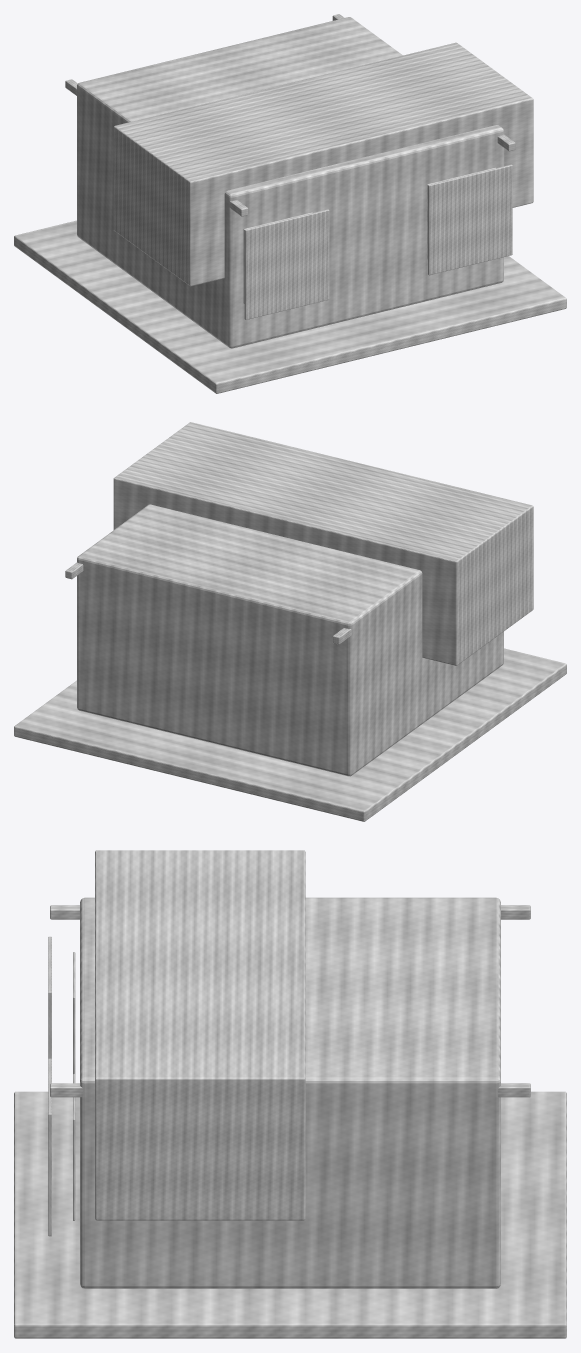
File: truck-station_variant_b.glb
3 renders of one model, top to bottom at view 1: azimuth 30°, elevation 25°; view 2: azimuth 150°, elevation 25°; view 3: azimuth 270°, elevation 25°, orthographic. The views are drawn at different scales.
Parts seen in each view (by area): view 1: Main structural housing.001, Vehicle bay.001, Foundation.001, Protective frame.002, Protective frame.003; view 2: Main structural housing.001, Vehicle bay.001, Foundation.001; view 3: Main structural housing.001, Vehicle bay.001, Foundation.001, Loading arm.003, Loading arm.002, Protective frame.003.
Part boxes in pixels (<box>): Main structural housing.001: <box>77,17,503,348</box>; Vehicle bay.001: <box>113,42,533,286</box>; Foundation.001: <box>14,220,566,393</box>; Protective frame.002: <box>244,209,329,319</box>; Protective frame.003: <box>428,164,512,275</box>; Main structural housing.001: <box>77,504,503,776</box>; Vehicle bay.001: <box>113,422,533,665</box>; Foundation.001: <box>14,648,566,821</box>; Main structural housing.001: <box>80,897,500,1288</box>; Vehicle bay.001: <box>95,850,305,1220</box>; Foundation.001: <box>14,1091,566,1338</box>; Loading arm.003: <box>50,1083,530,1097</box>; Loading arm.002: <box>50,905,530,919</box>; Protective frame.003: <box>48,1058,51,1236</box>.
Size of what is drawn, in the model's own units: 14.72 by 7.6 by 14.72.
Materials: 5 (5 with a texture image).
